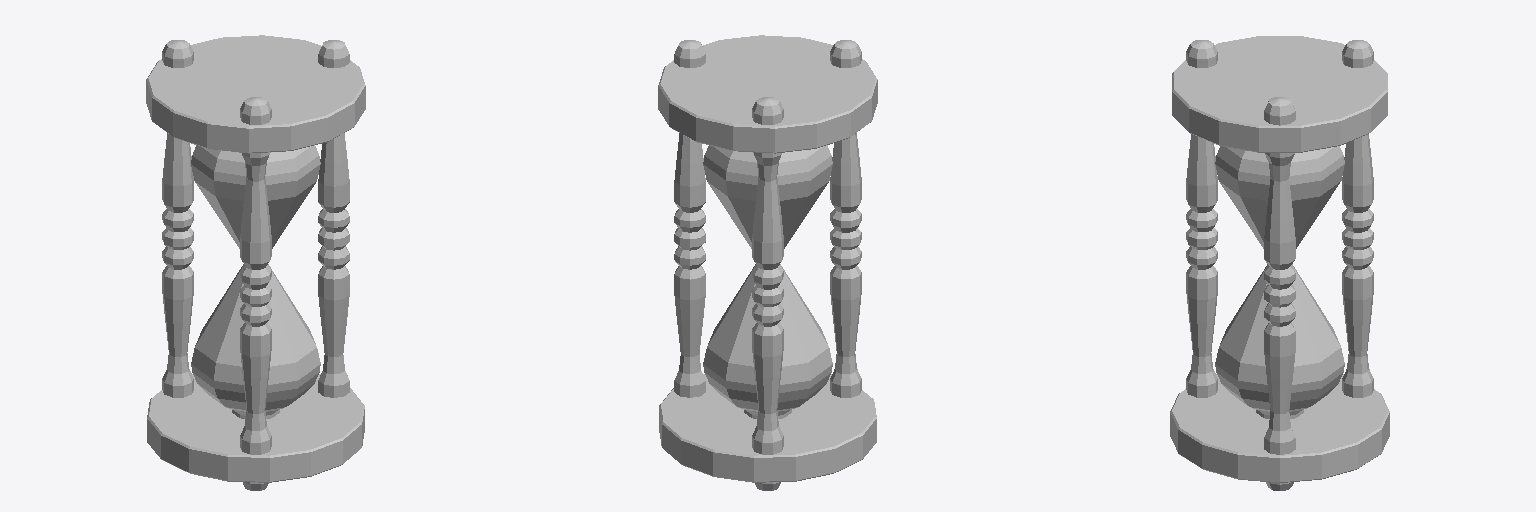
File: timer.obj
3 renders of one model, left to right at view 1: azimuth 30°, elevation 25°; view 2: azimuth 150°, elevation 25°; view 3: azimuth 270°, elevation 25°, orthographic.
Parts seen in each view (by area): view 1: SandTimer_LP_Mesh; view 2: SandTimer_LP_Mesh; view 3: SandTimer_LP_Mesh.
Boxes of the visible parts, <box> form: SandTimer_LP_Mesh: <box>146,35,365,490</box>; SandTimer_LP_Mesh: <box>658,35,877,490</box>; SandTimer_LP_Mesh: <box>1170,36,1389,490</box>.
Bounding box in the file's own units: 0.1251 × 0.2446 × 0.1251.